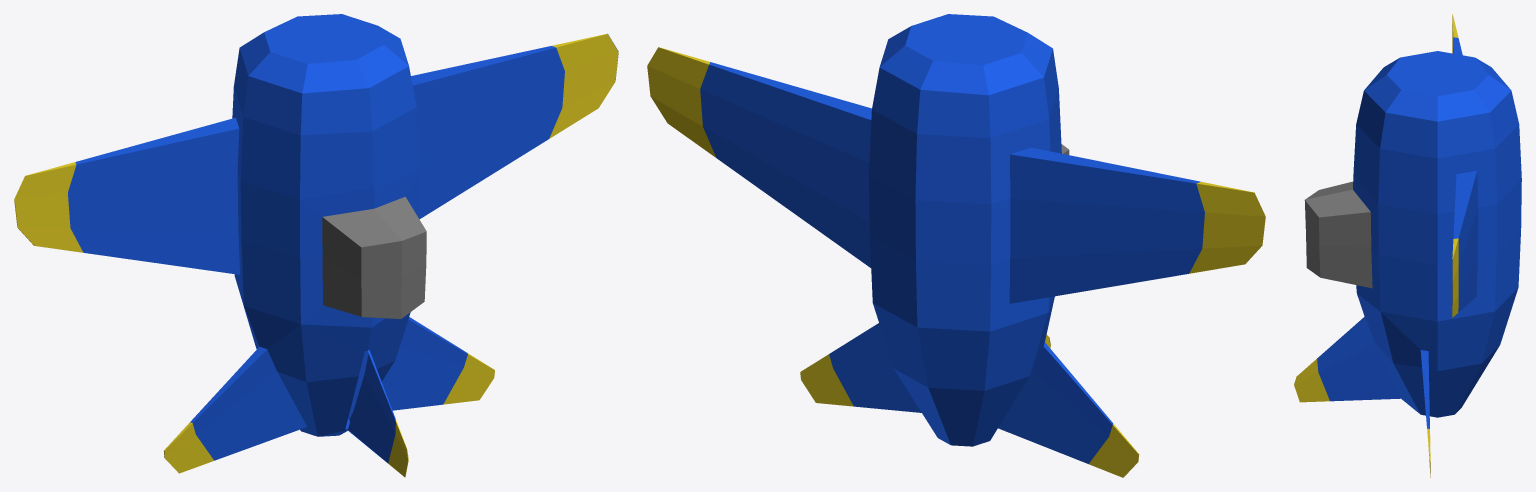
The model's file is player.glb.
The picture shows the model from 3 angles, left to right: view 1: azimuth 30°, elevation 25°; view 2: azimuth 150°, elevation 25°; view 3: azimuth 270°, elevation 25°; orthographic projection. The views are drawn at different scales.
Visible parts, largest first — view 1: Cylinder; view 2: Cylinder; view 3: Cylinder.
Boxes of the visible parts, bbox=[...] form: Cylinder: bbox=[14, 14, 618, 477]; Cylinder: bbox=[647, 14, 1265, 477]; Cylinder: bbox=[1294, 14, 1521, 477].
Bounding box in the file's own units: 6.92 × 4.32 × 2.62.
